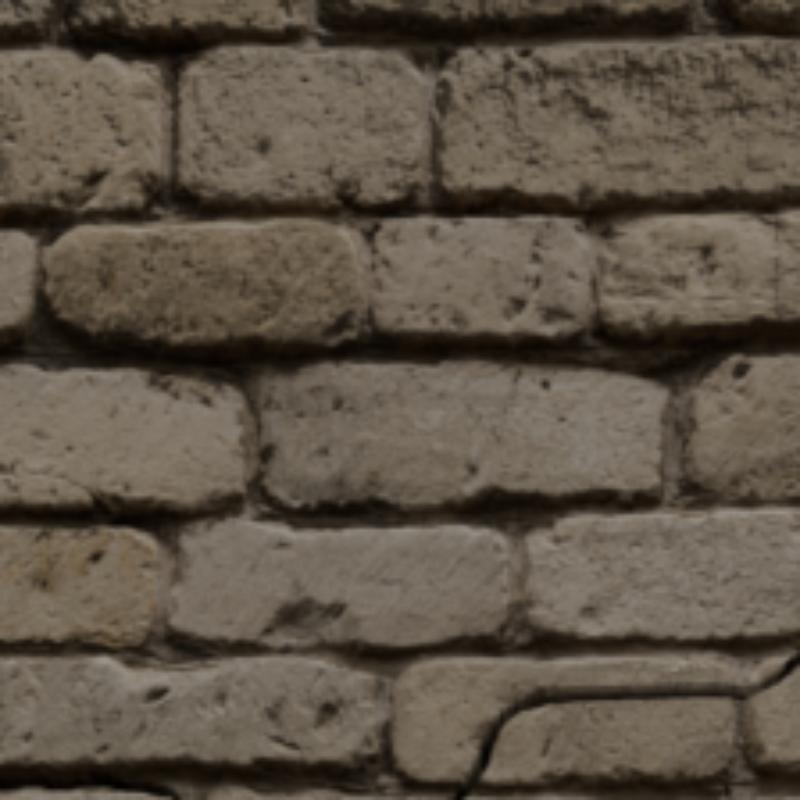pothole: (446, 654, 796, 796), (0, 768, 179, 796)
